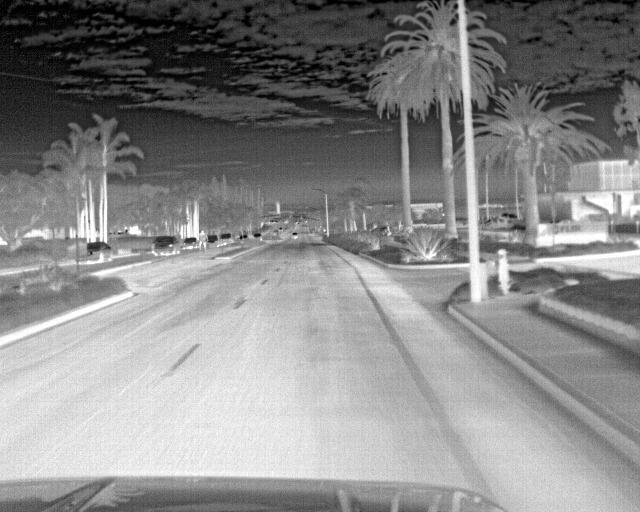car: (84, 240, 114, 263), (150, 237, 180, 257), (180, 236, 199, 251), (204, 235, 221, 249), (219, 232, 234, 246)
